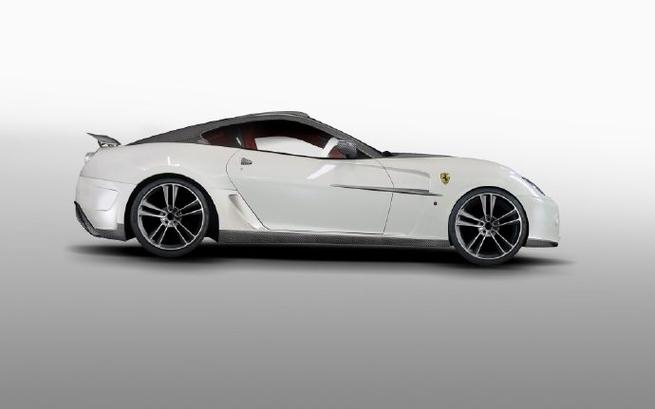汽车: (65, 103, 575, 283)
